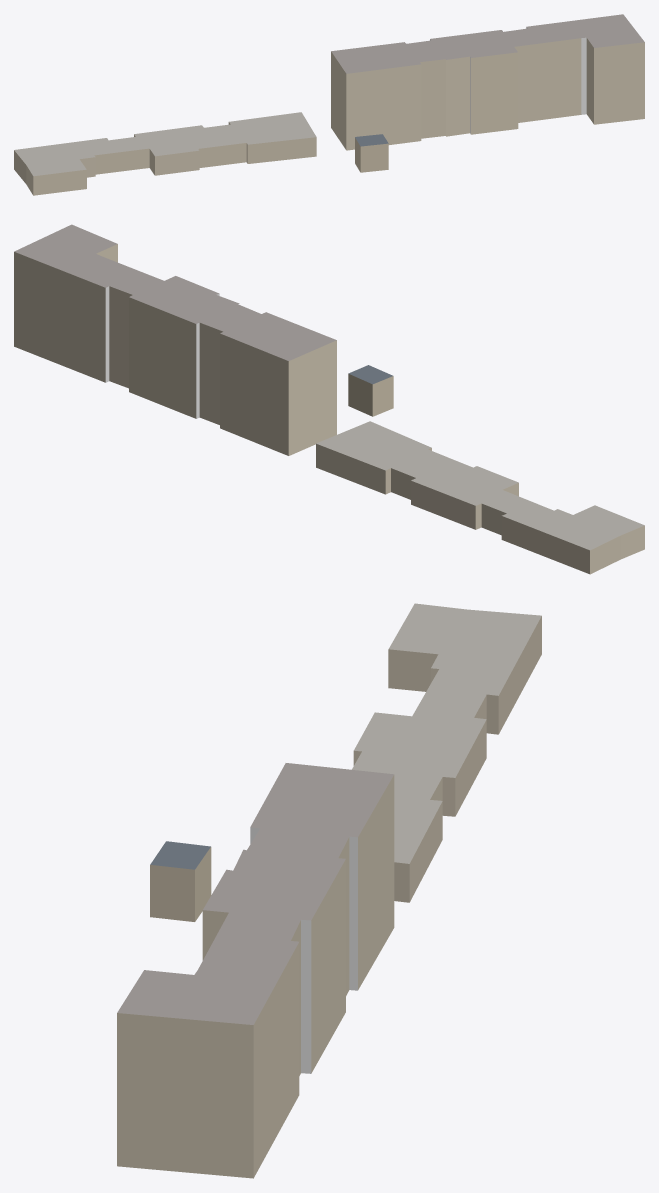
3 views of the same model, one above another, from view 1: azimuth 30°, elevation 25°; view 2: azimuth 150°, elevation 25°; view 3: azimuth 270°, elevation 25° (orthographic). The views are drawn at different scales.
Visible parts, largest first — view 1: tuile; view 2: tuile; view 3: tuile.
Part boxes in pixels (bbox=[...]): tuile: bbox=[14, 14, 644, 195]; tuile: bbox=[14, 224, 644, 574]; tuile: bbox=[117, 603, 541, 1178].
Size of the model in its own units: 150 by 19.99 by 50.09.
